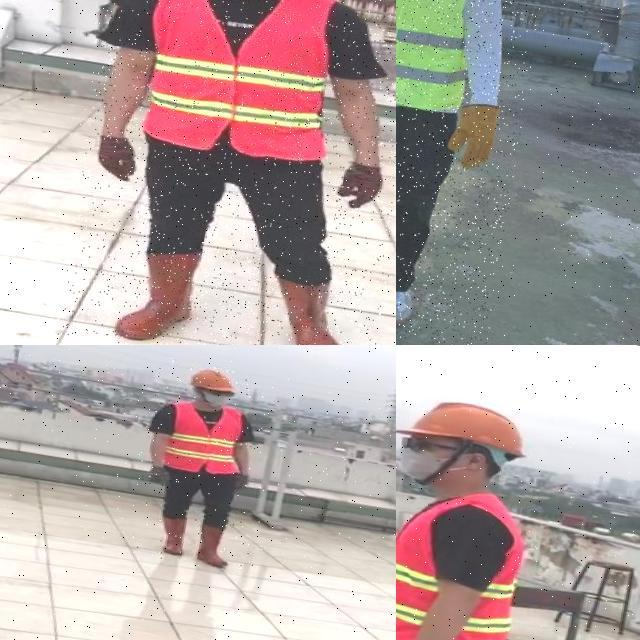boots: (113, 244, 202, 345), (256, 268, 356, 345), (191, 522, 235, 568), (153, 514, 189, 557), (396, 284, 416, 329)
helmet: (402, 389, 532, 458), (188, 366, 238, 394)
vest: (132, 0, 351, 168), (396, 477, 527, 640), (396, 0, 486, 114), (162, 400, 250, 480)
